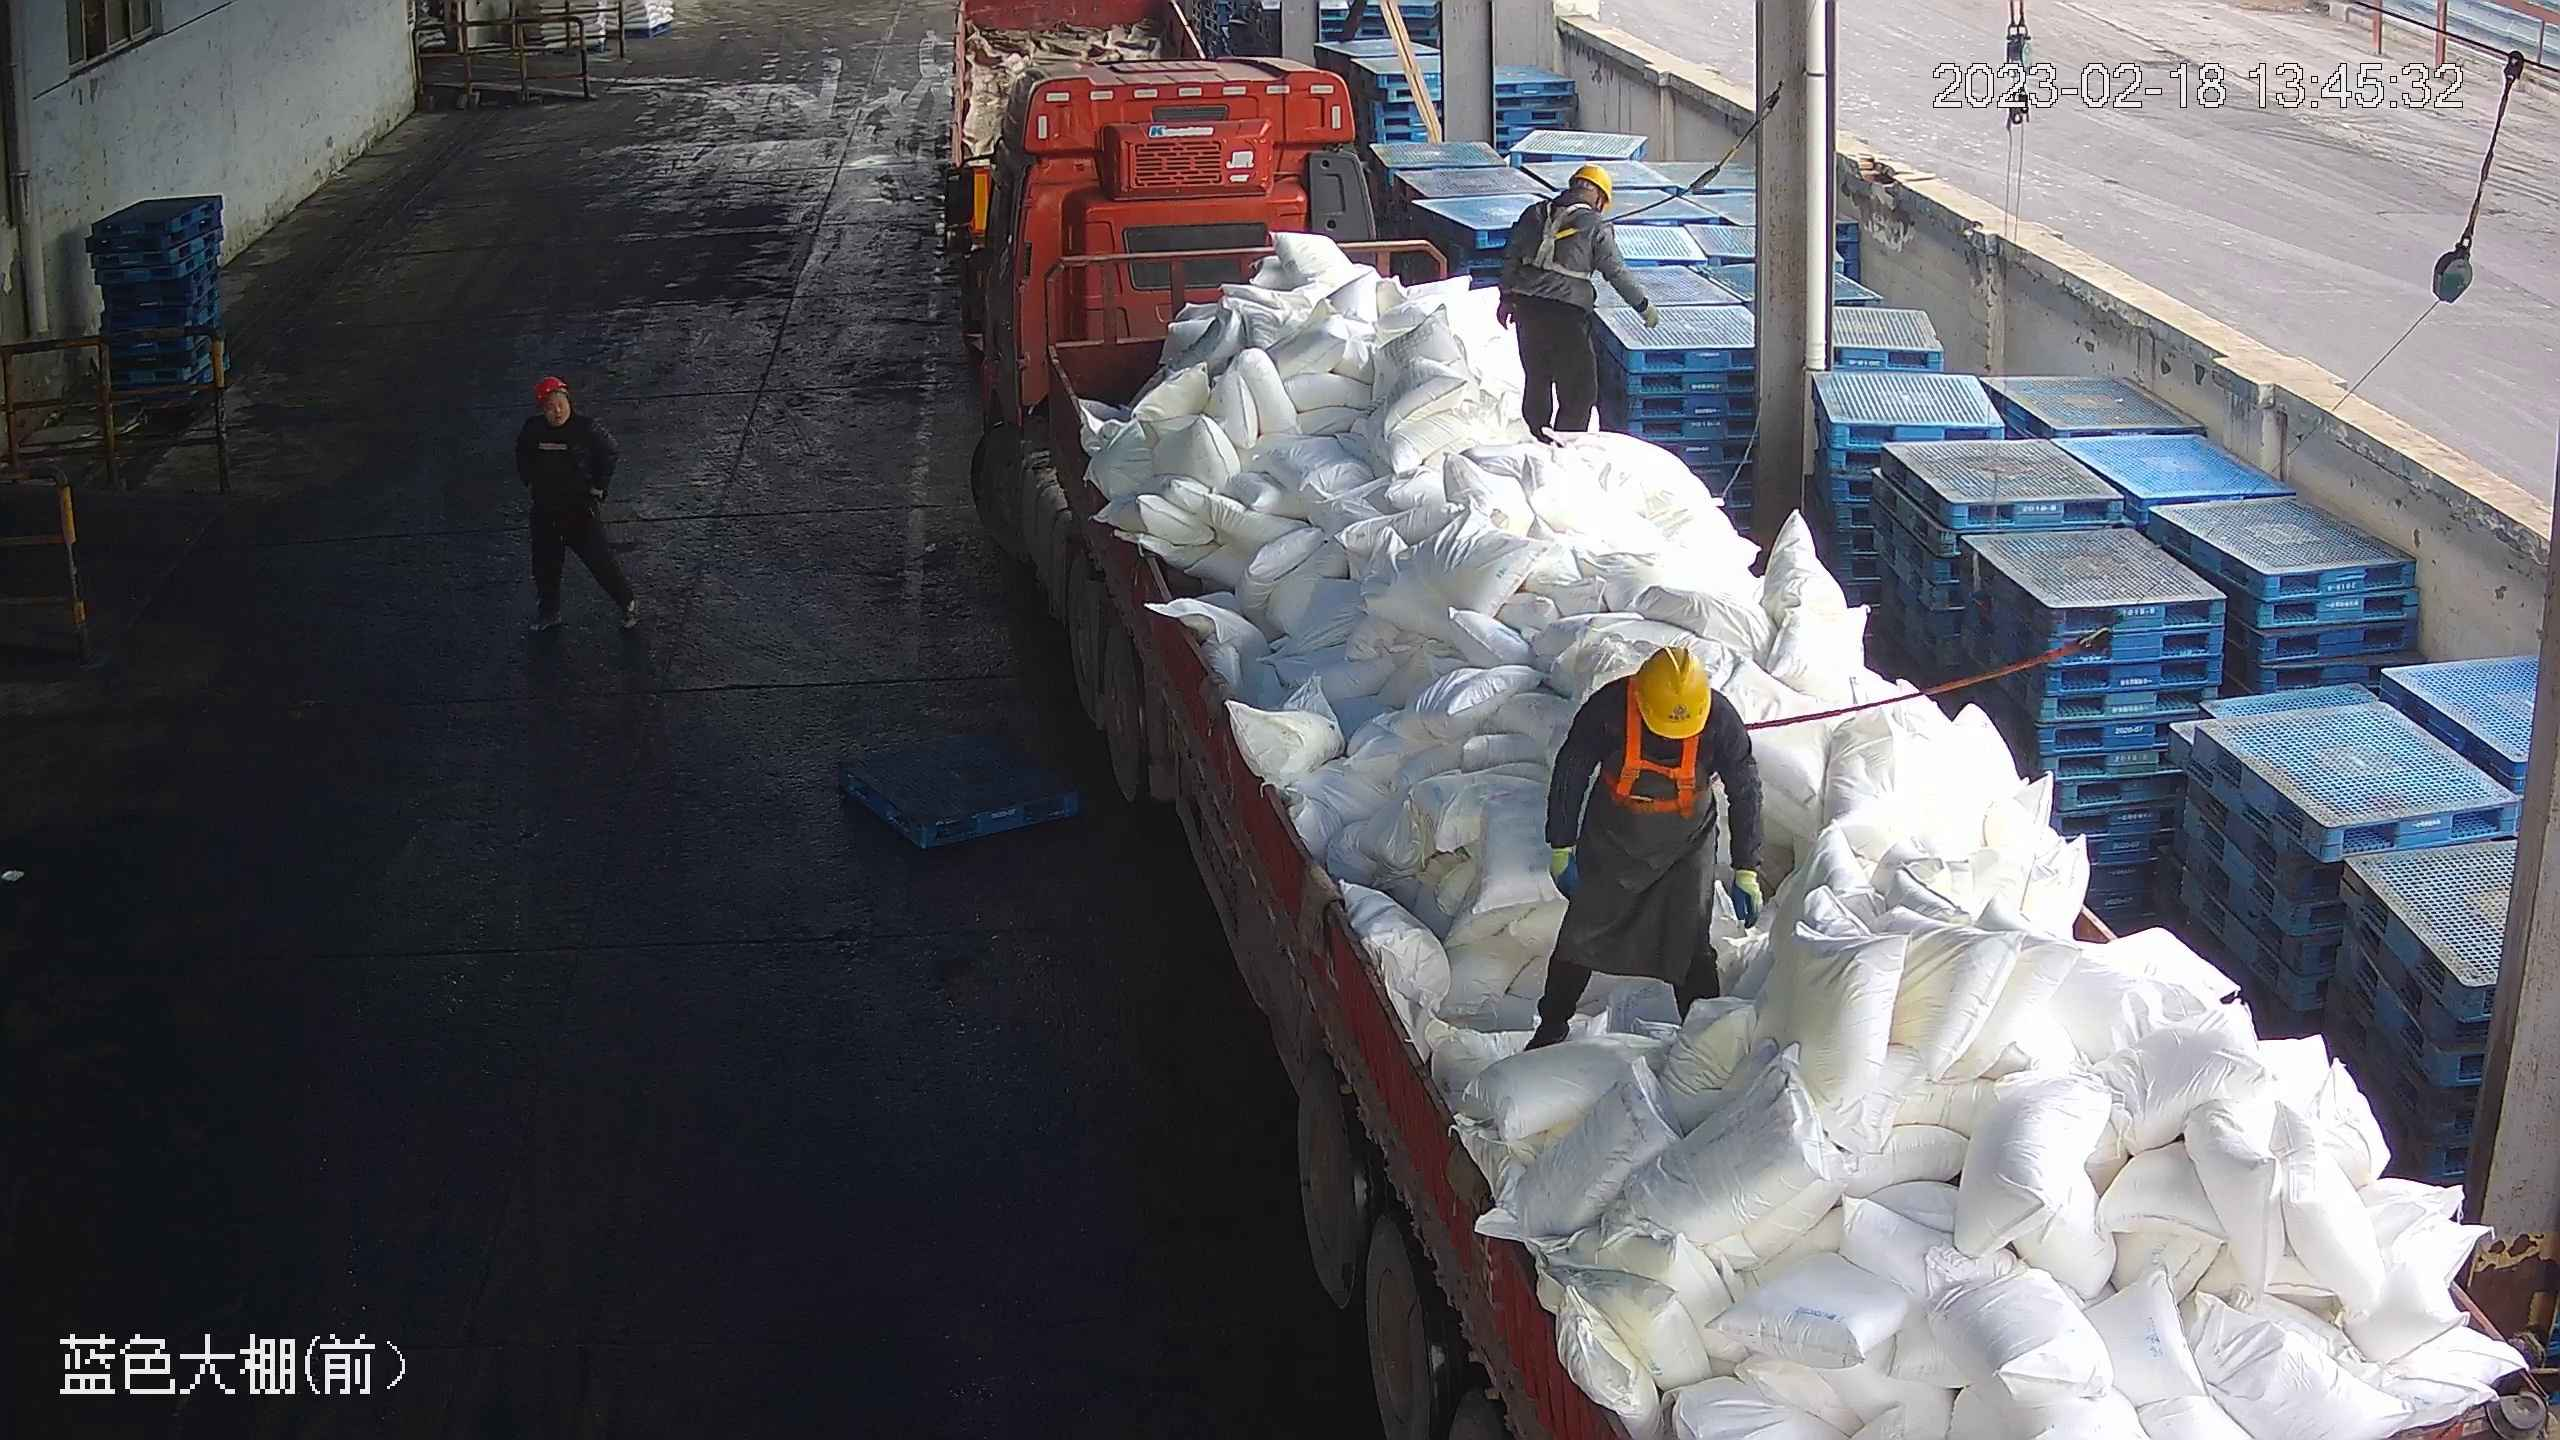belt: (1604, 694, 1715, 818), (1516, 197, 1602, 277)
head: (1572, 646, 1744, 782), (1511, 162, 1623, 246), (519, 373, 602, 451)
helmet: (1631, 645, 1714, 736), (1565, 161, 1617, 206), (528, 371, 568, 404)
people: (1523, 642, 1769, 1048), (1497, 161, 1662, 445), (514, 374, 644, 636)
truck: (943, 56, 2558, 1437)
